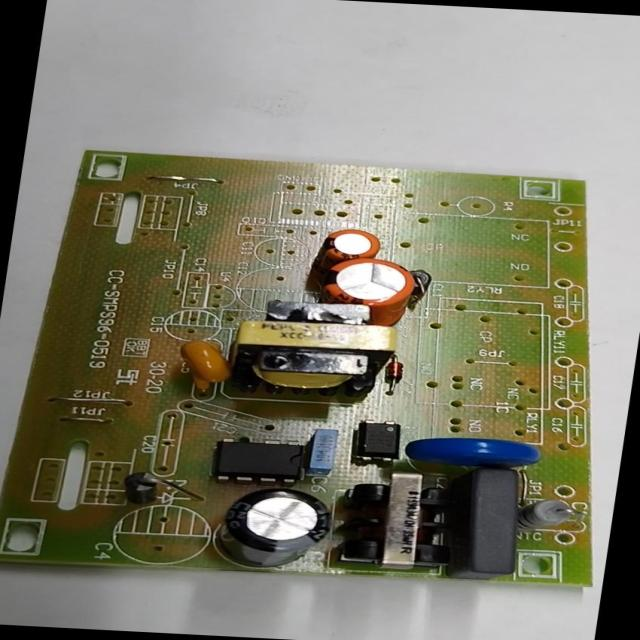Cap1: (320, 258, 416, 310)
Cap2: (320, 228, 381, 261)
Cap3: (218, 487, 334, 572)
MOSFET: (213, 436, 307, 484)
Mov: (404, 436, 542, 464)
Resistor: (522, 502, 575, 528)
Transformer: (237, 300, 401, 394), (336, 471, 461, 570)
